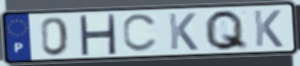0: (40, 16, 70, 57)
C: (120, 12, 160, 54)
H: (77, 14, 118, 56)
K: (166, 12, 200, 52), (251, 9, 285, 49)
Q: (203, 8, 250, 52)
